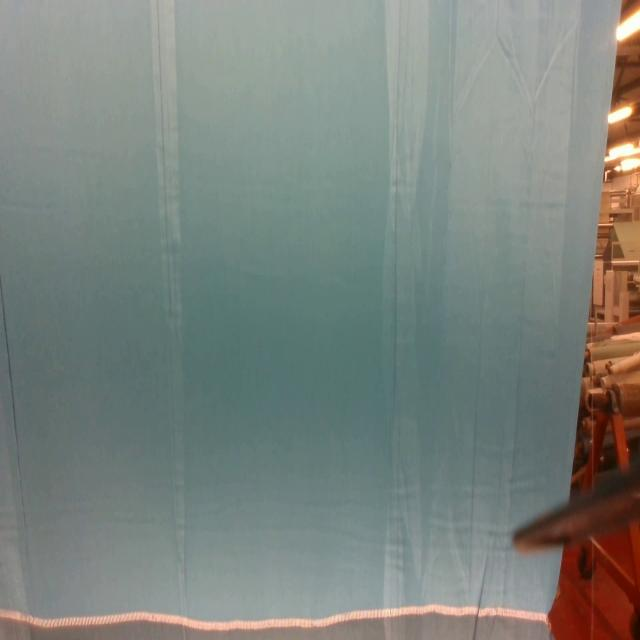crease: (150, 0, 192, 636), (382, 1, 421, 640), (0, 275, 29, 533), (466, 285, 488, 595), (468, 552, 492, 640)
